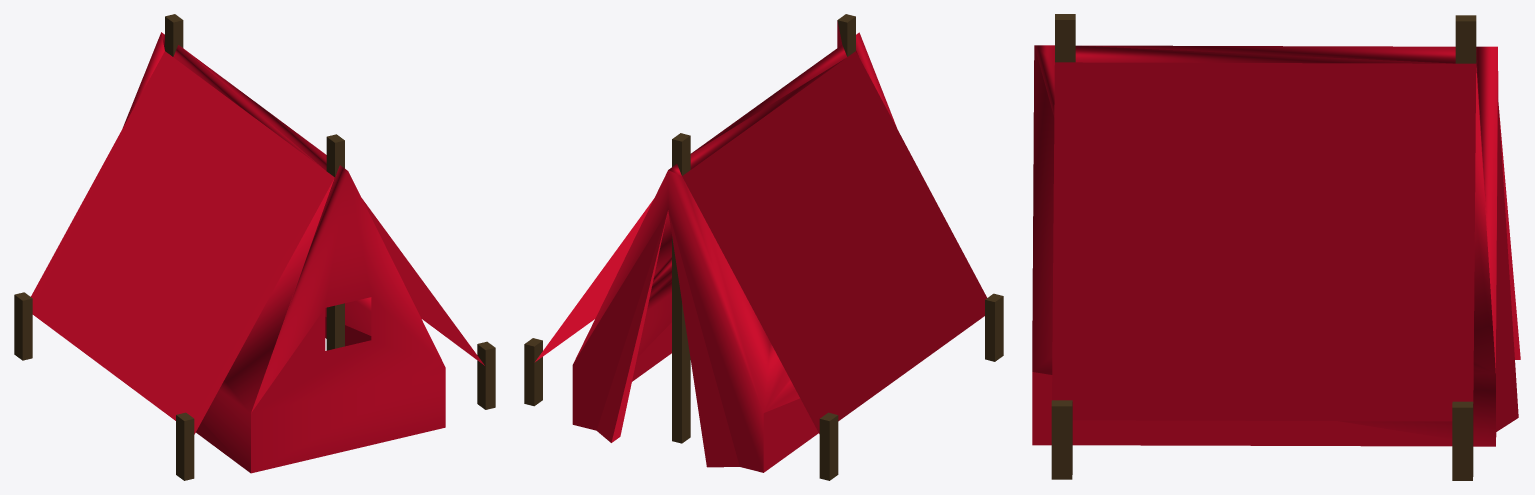
Rendered from IP2_1_tend.obj.
The picture shows the model from 3 angles, left to right: view 1: azimuth 30°, elevation 25°; view 2: azimuth 150°, elevation 25°; view 3: azimuth 270°, elevation 25°; orthographic projection. The views are drawn at different scales.
Visible parts, largest first — view 1: tent_detailedOpen; view 2: tent_detailedOpen; view 3: tent_detailedOpen.
Part boxes in pixels (x1,y1,x2,y2): tent_detailedOpen: [14, 14, 495, 480]; tent_detailedOpen: [524, 14, 1003, 480]; tent_detailedOpen: [1032, 14, 1520, 480].
Size of the model in its own units: 44.6 by 41.51 by 49.62.
Materials: 1 (1 with a texture image).
